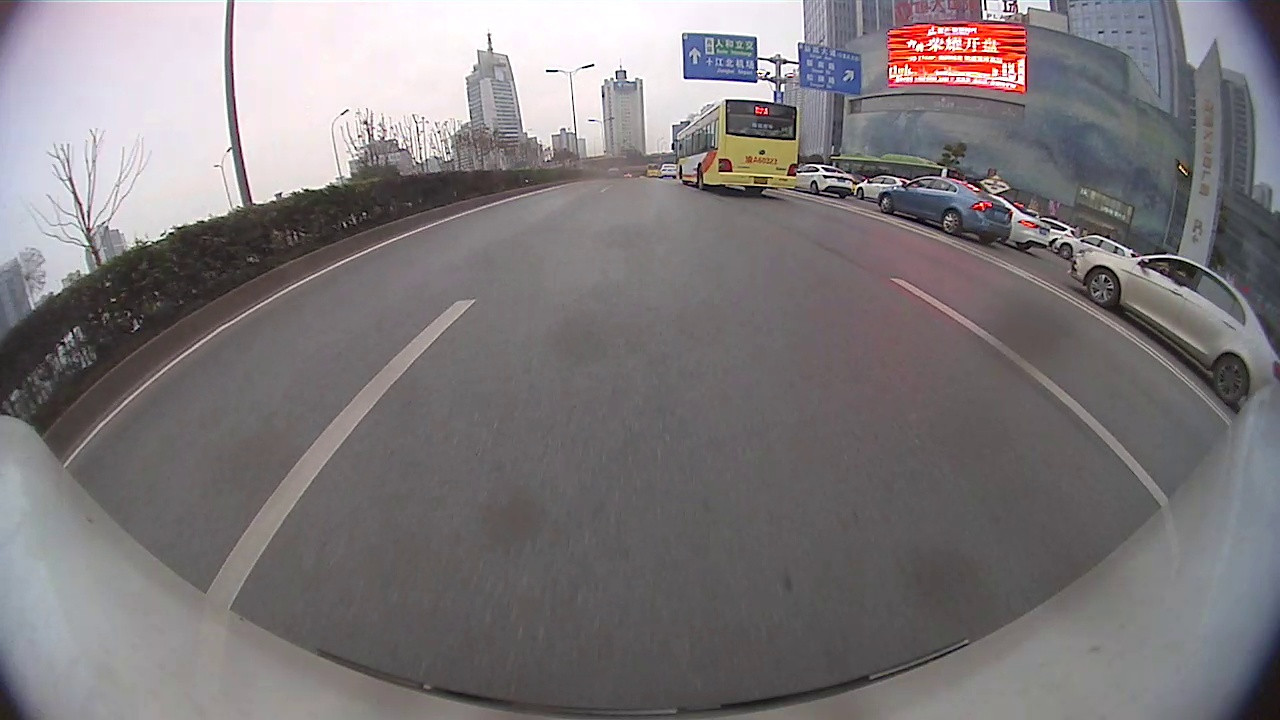bus: (668, 95, 802, 196)
car: (1068, 247, 1278, 408), (876, 173, 1014, 247), (985, 191, 1054, 253), (797, 161, 857, 201)
front: (1081, 269, 1120, 310), (878, 195, 896, 216), (1058, 242, 1073, 261)
rear: (1210, 354, 1250, 403), (941, 210, 963, 239)
